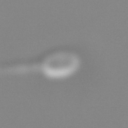normal: (1, 55, 44, 84)
